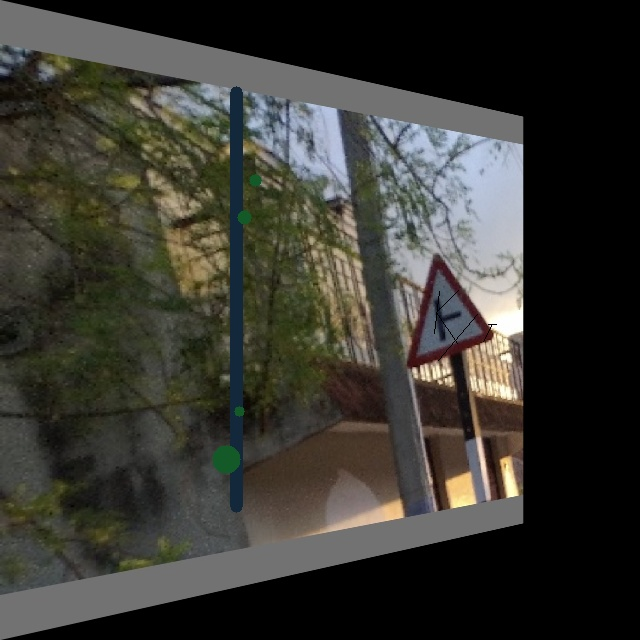Side_Road_Right: (403, 246, 498, 370)
